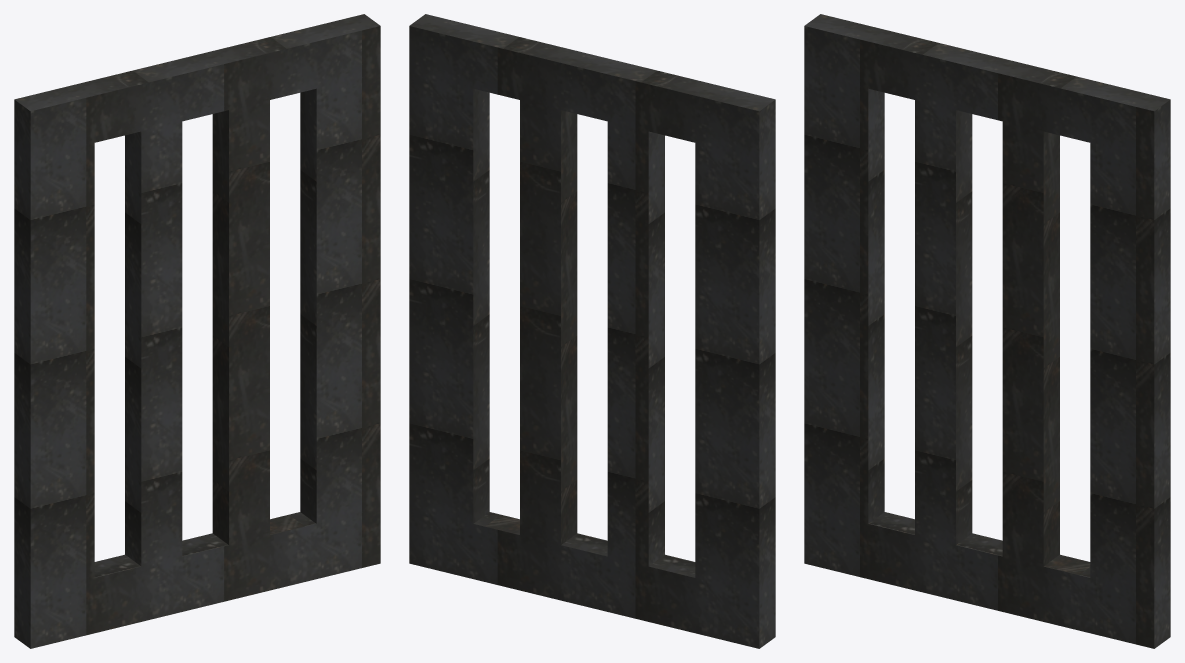
File: LP_GateDoor.glb
The picture shows the model from 3 angles, left to right: view 1: azimuth 30°, elevation 25°; view 2: azimuth 150°, elevation 25°; view 3: azimuth 330°, elevation 25°; orthographic projection.
Visible parts, largest first — view 1: DOOR_GATE.002; view 2: DOOR_GATE.002; view 3: DOOR_GATE.002.
Boxes of the visible parts, x1=… form: DOOR_GATE.002: x1=14, y1=14, x2=380, y2=648; DOOR_GATE.002: x1=409, y1=14, x2=775, y2=648; DOOR_GATE.002: x1=804, y1=14, x2=1170, y2=648.
Size of the model in its own units: 2.05 by 3.01 by 0.1657.
Materials: 1 (1 with a texture image).
